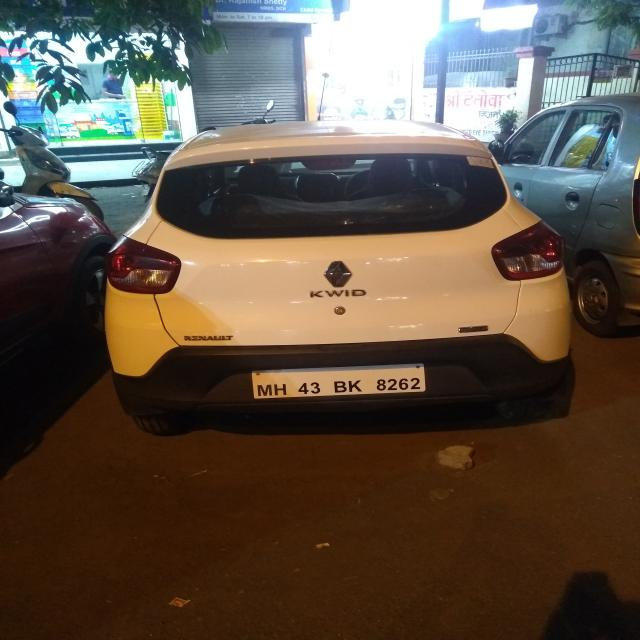Number-Plate: (258, 367, 424, 397)
